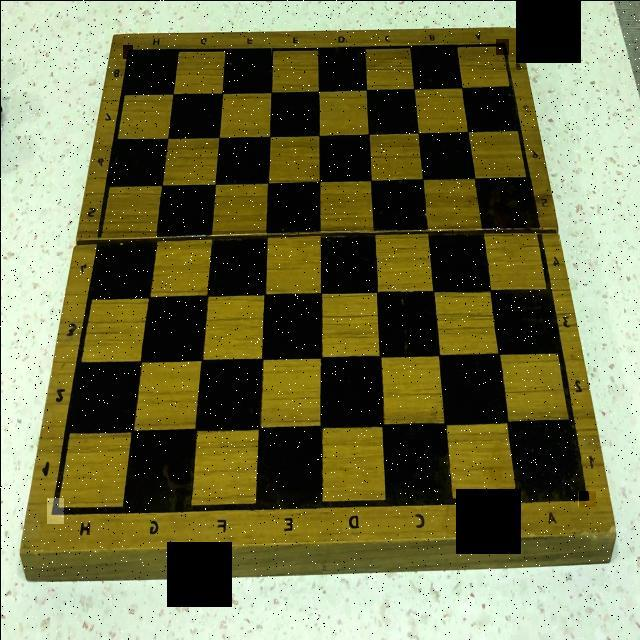chess-table-corners: (46, 497, 63, 523), (576, 490, 594, 506), (495, 38, 508, 54), (122, 44, 132, 58)
